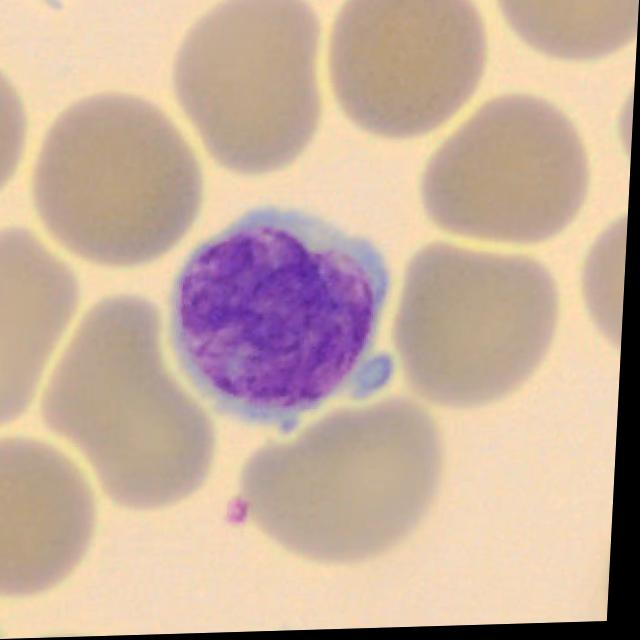Linfocito atipico: (176, 211, 393, 431)
